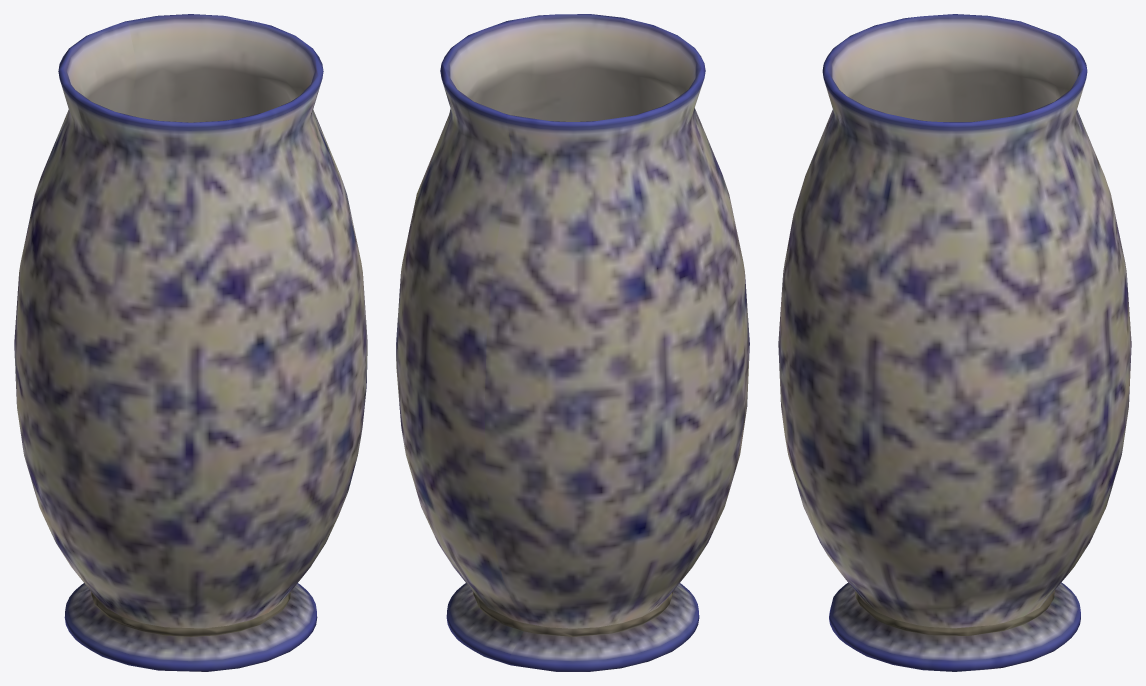
The model's file is antique_ceramic_vase_01.glb.
3 renders of one model, left to right at view 1: azimuth 30°, elevation 25°; view 2: azimuth 150°, elevation 25°; view 3: azimuth 270°, elevation 25°, orthographic.
Visible parts, largest first — view 1: antique_ceramic_vase_01; view 2: antique_ceramic_vase_01; view 3: antique_ceramic_vase_01.
Part boxes in pixels (x1,y1,x2,y2): antique_ceramic_vase_01: (14,14,367,671); antique_ceramic_vase_01: (396,14,749,671); antique_ceramic_vase_01: (778,14,1131,671).
Size of the model in its own units: 0.255 by 0.4396 by 0.255.
1 material, 1 textured.
